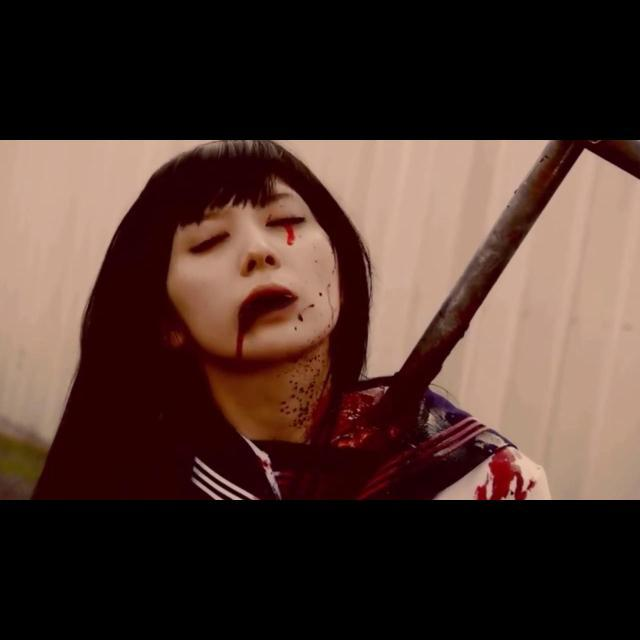blood: (202, 192, 540, 500)
